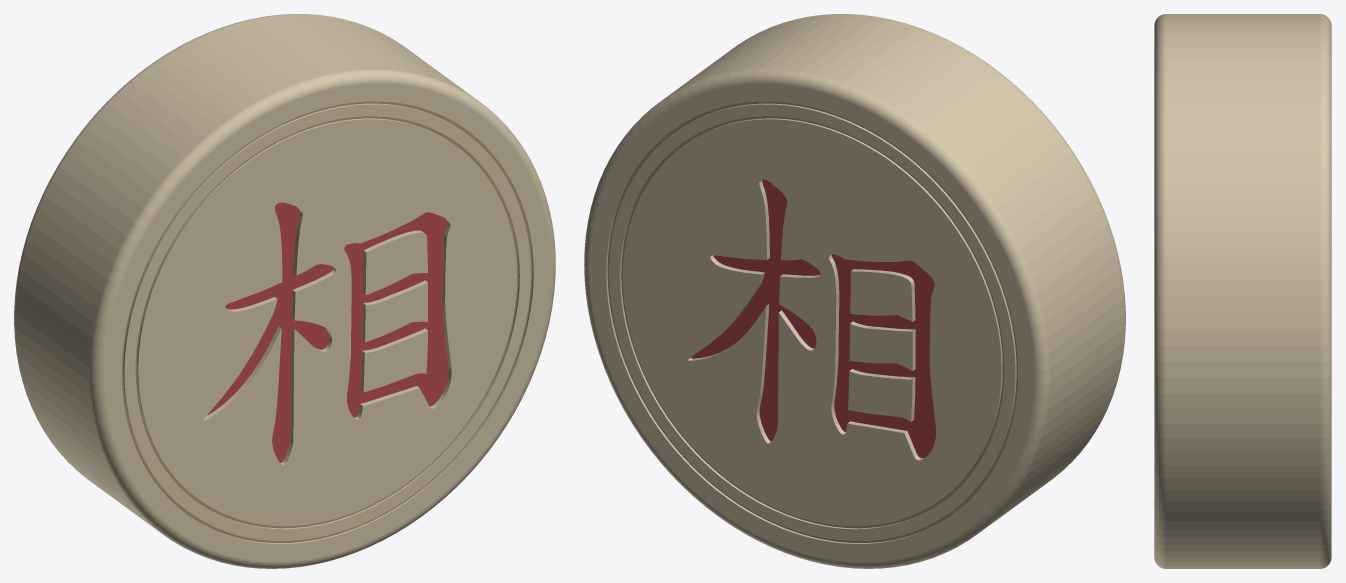
3 renders of one model, left to right at view 1: azimuth 30°, elevation 25°; view 2: azimuth 150°, elevation 25°; view 3: azimuth 270°, elevation 25°, orthographic. The views are drawn at different scales.
Parts seen in each view (by area): view 1: wood, engraved_letters, engraved_border; view 2: wood, engraved_letters, engraved_border; view 3: wood.
Boxes of the visible parts, x1,y1,x2,y2 form: wood: [14, 14, 555, 568]; engraved_letters: [207, 202, 448, 462]; engraved_border: [122, 101, 532, 542]; wood: [584, 14, 1125, 568]; engraved_letters: [691, 179, 936, 458]; engraved_border: [607, 101, 1017, 542]; wood: [1154, 14, 1331, 568].
Size of the model in its own units: 0.047 by 0.047 by 0.015.
